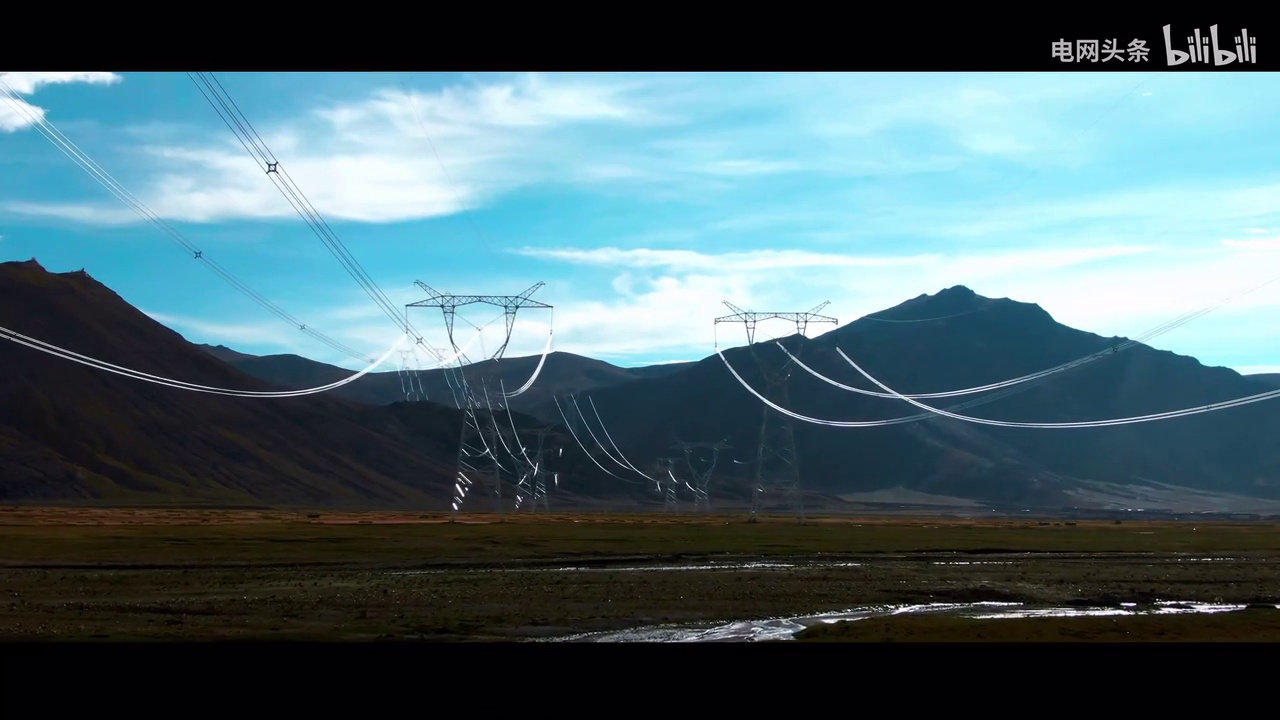tower_body: (398, 273, 570, 531), (698, 285, 862, 538)
tower_foot: (446, 441, 521, 524), (739, 479, 821, 529)
tower_head: (405, 275, 558, 375), (710, 294, 846, 383)
